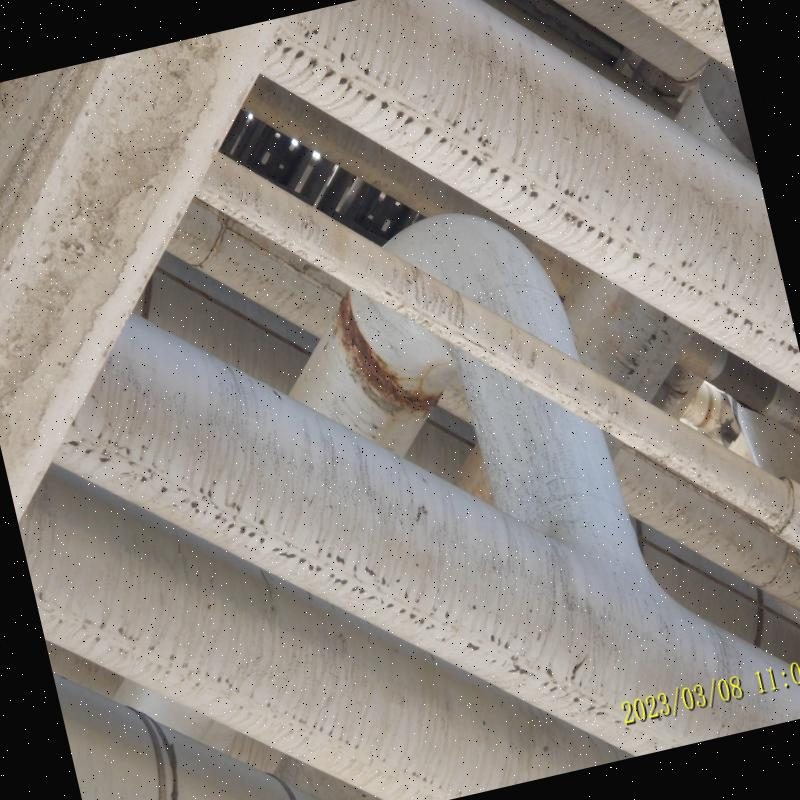corrosion: (336, 316, 382, 392)
